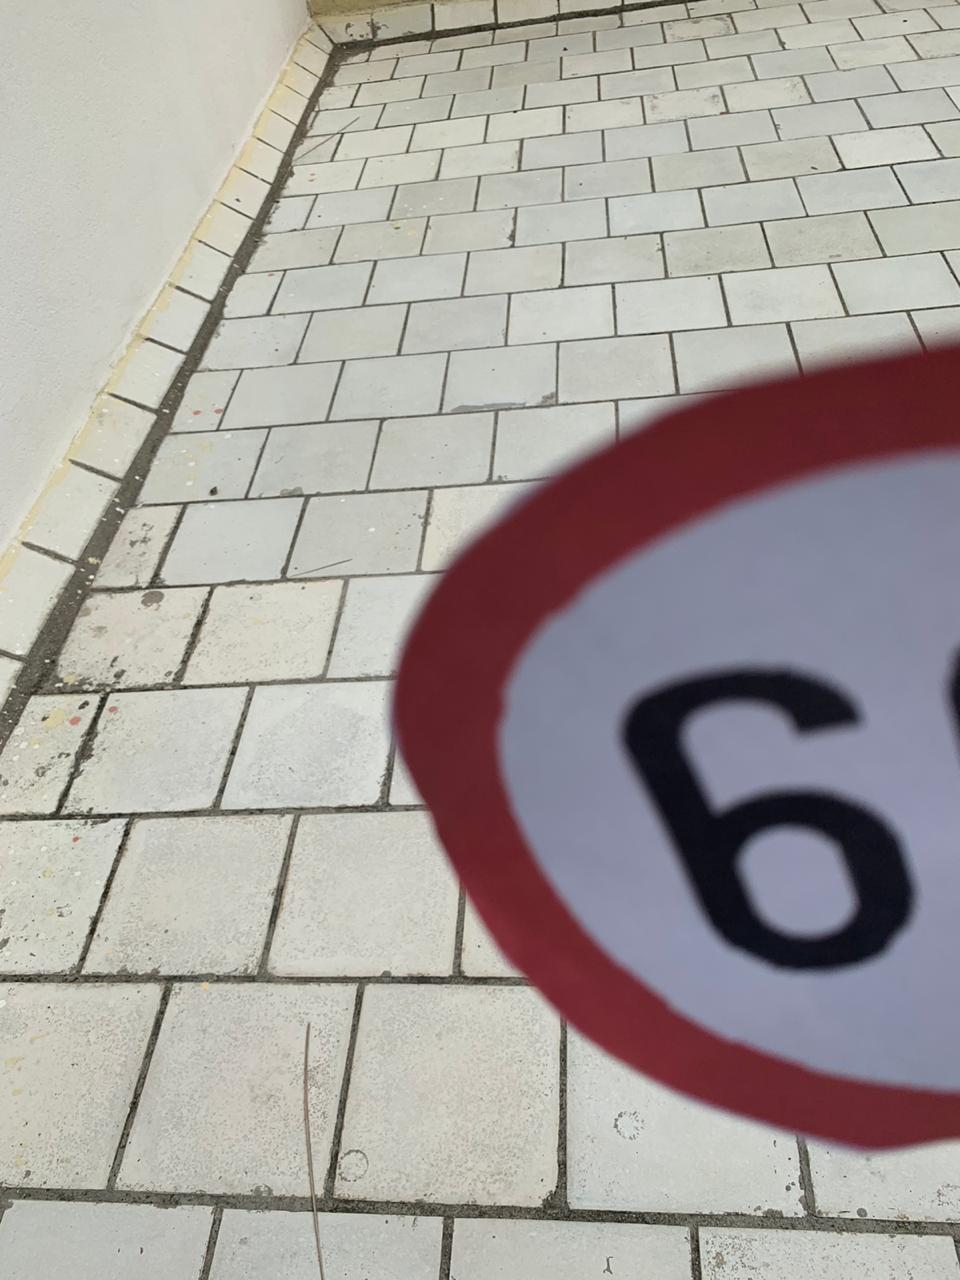SPEED LIMIT(60 KM/H): (341, 281, 960, 1162)
